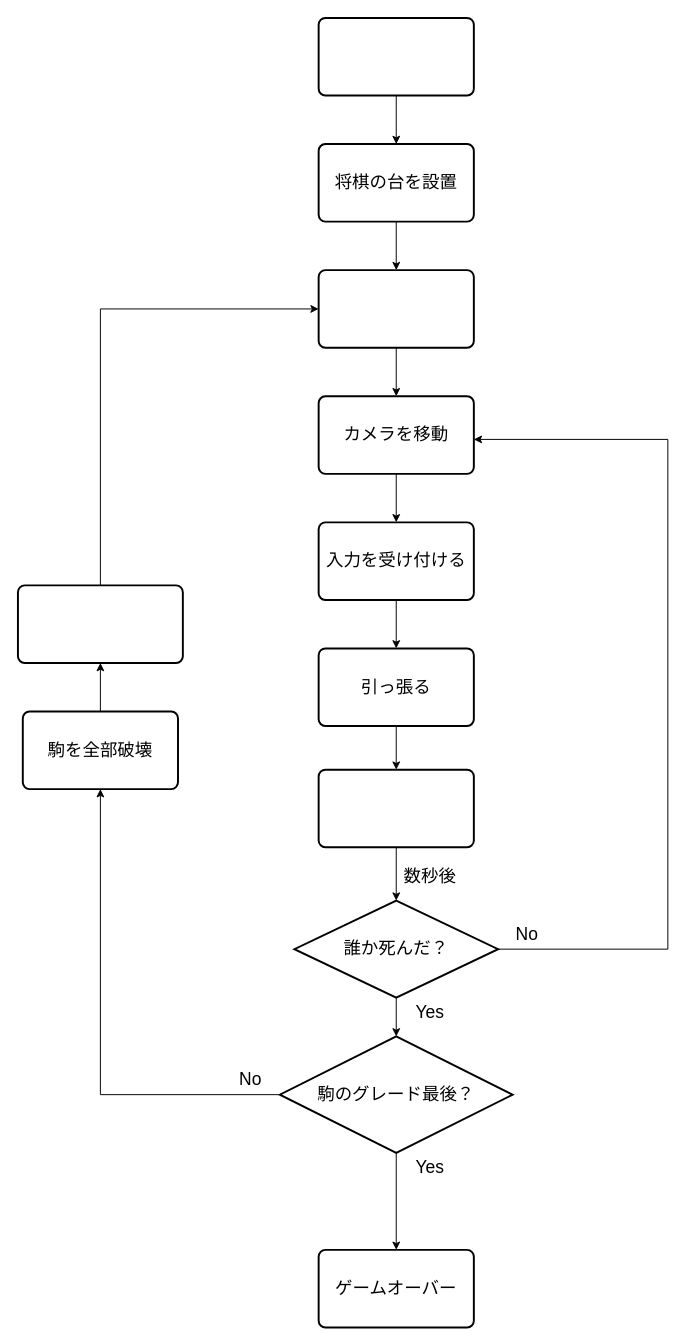
The diagram is 693 pixels wide and 1344 high, and some of its shapes have lost their labels. Each missing label, with the centre of its shape:
はじめる: point 395,56
入力を拒否: point 395,808
駒のグレードを変更: point 99,623
駒を設置: point 395,308
